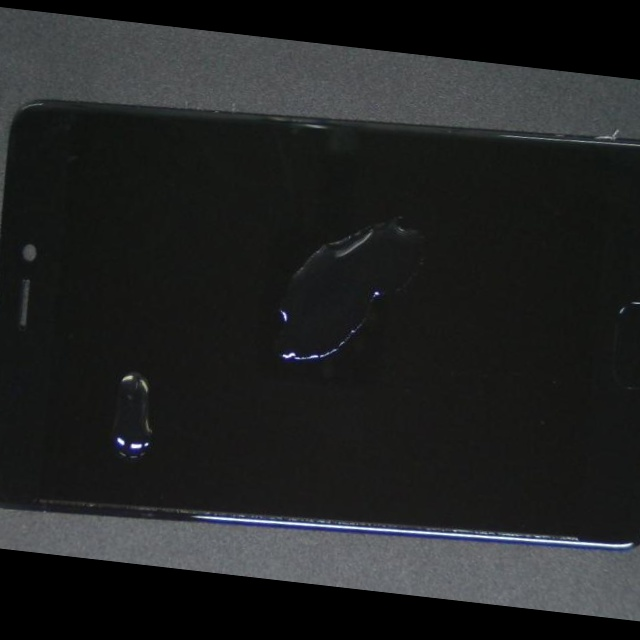oil: (130, 224, 614, 450), (40, 235, 285, 577)
